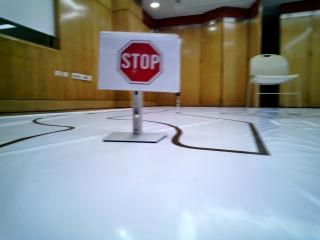stop: (102, 35, 176, 92)
